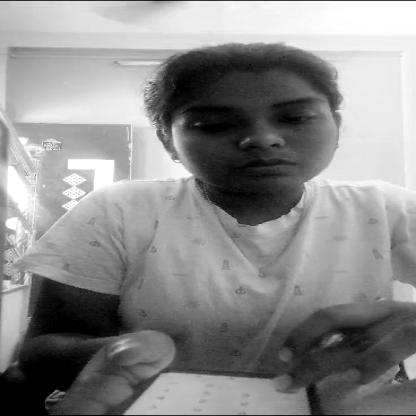Normal: (190, 87, 340, 193)
